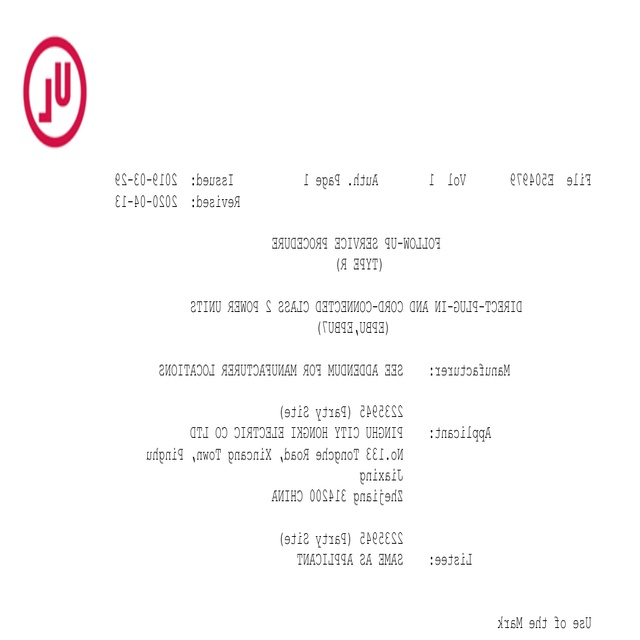ul: (24, 36, 87, 148)
